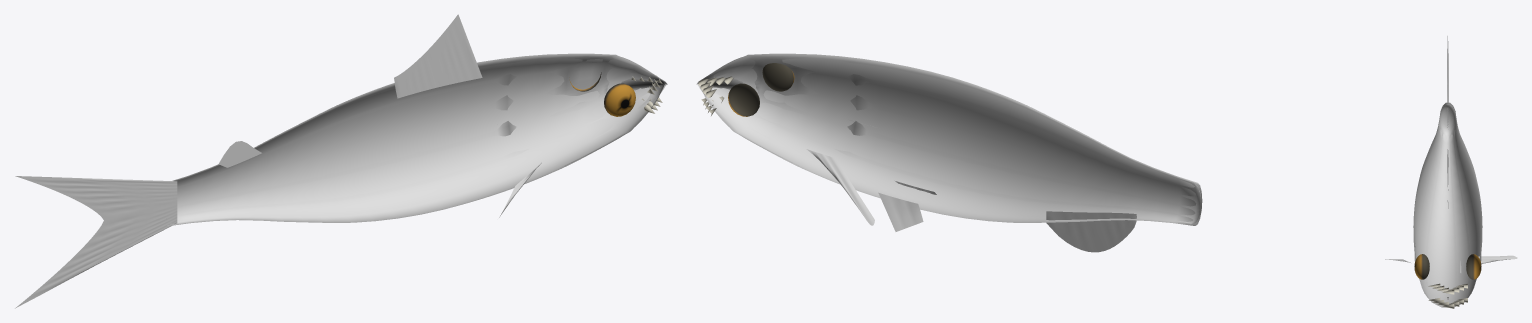
Rendered from tigerfish.glb.
3 renders of one model, left to right at view 1: azimuth 30°, elevation 25°; view 2: azimuth 150°, elevation 25°; view 3: azimuth 270°, elevation 25°, orthographic. The views are drawn at different scales.
Visible parts, largest first — view 1: BodyLow, Fins, Body, Eyes; view 2: BodyLow, Body, Fins, Eyes, Extras; view 3: BodyLow, Body, Eyes, Fins, Extras.
Part boxes in pixels (x1,y1,x2,y2): BodyLow: (167, 53, 667, 225); Fins: (15, 14, 541, 308); Body: (170, 55, 666, 224); Eyes: (570, 72, 635, 116); BodyLow: (696, 53, 1202, 225); Body: (697, 55, 1201, 224); Fins: (806, 120, 1136, 252); Eyes: (728, 63, 794, 116); Extras: (698, 76, 733, 115); BodyLow: (1413, 102, 1482, 307); Body: (1413, 104, 1482, 307); Eyes: (1414, 254, 1481, 279); Fins: (1385, 36, 1517, 272); Extras: (1428, 283, 1467, 308).
Bounding box in the file's own units: 0.721 × 0.2158 × 0.1806.
